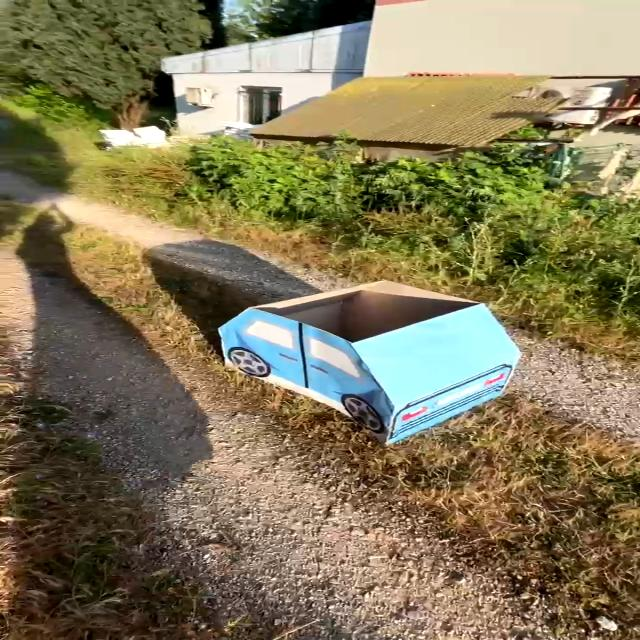blue_car: (188, 249, 562, 458)
